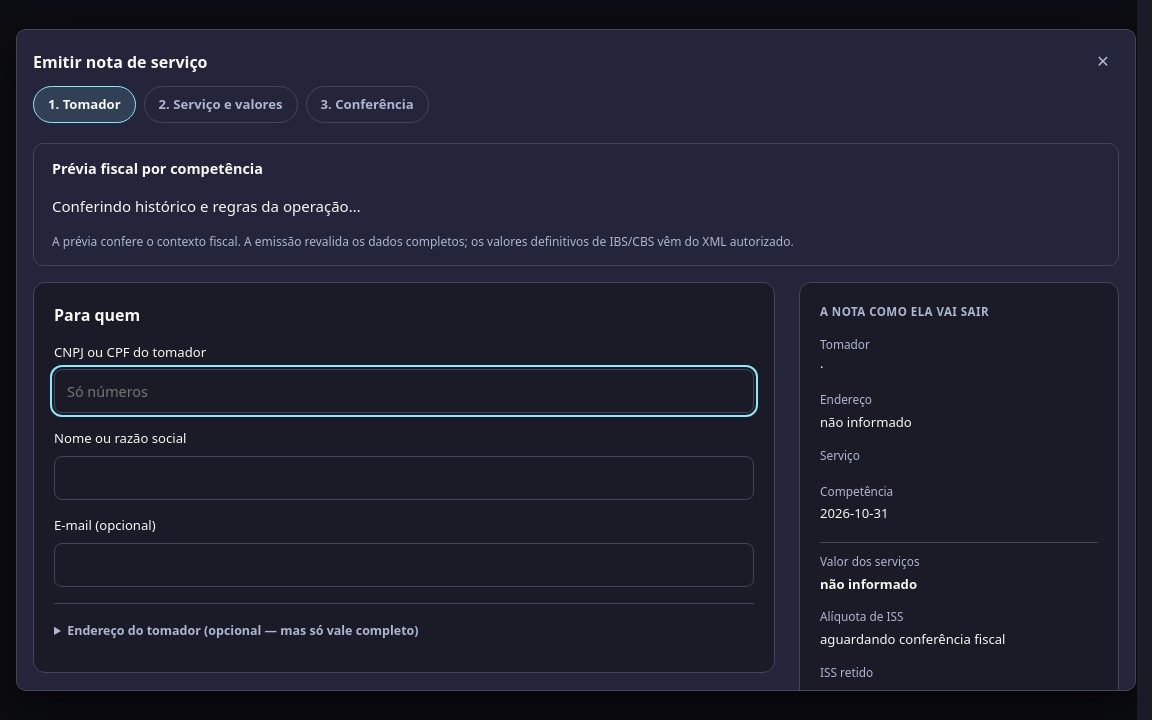
it: CEP preenche endereço parcial sem inventar número e preserva edição em andamento
Step 1. Click the heading "Endereço do tomador (opcional — mas só vale completo)" → (243,630), box [67,622,418,639]
(page scrolled)
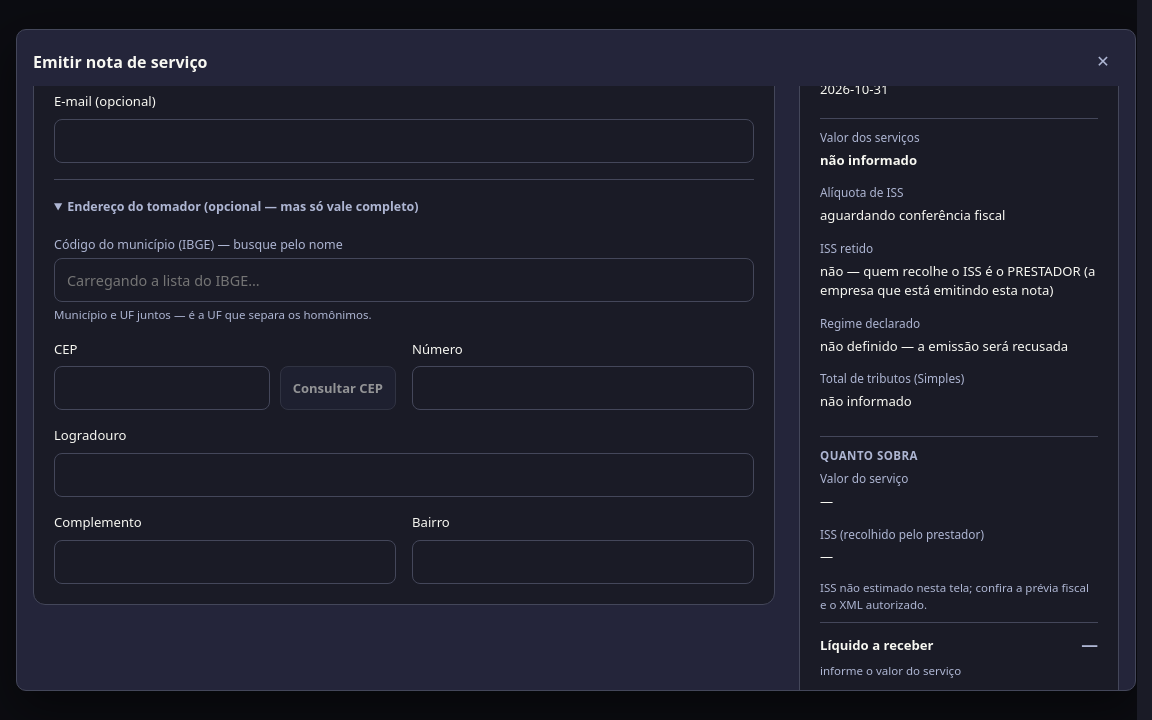
Step 2. Type "22770-010" into the field with id "nfse-cep" → (162,388), box [54,366,270,410]
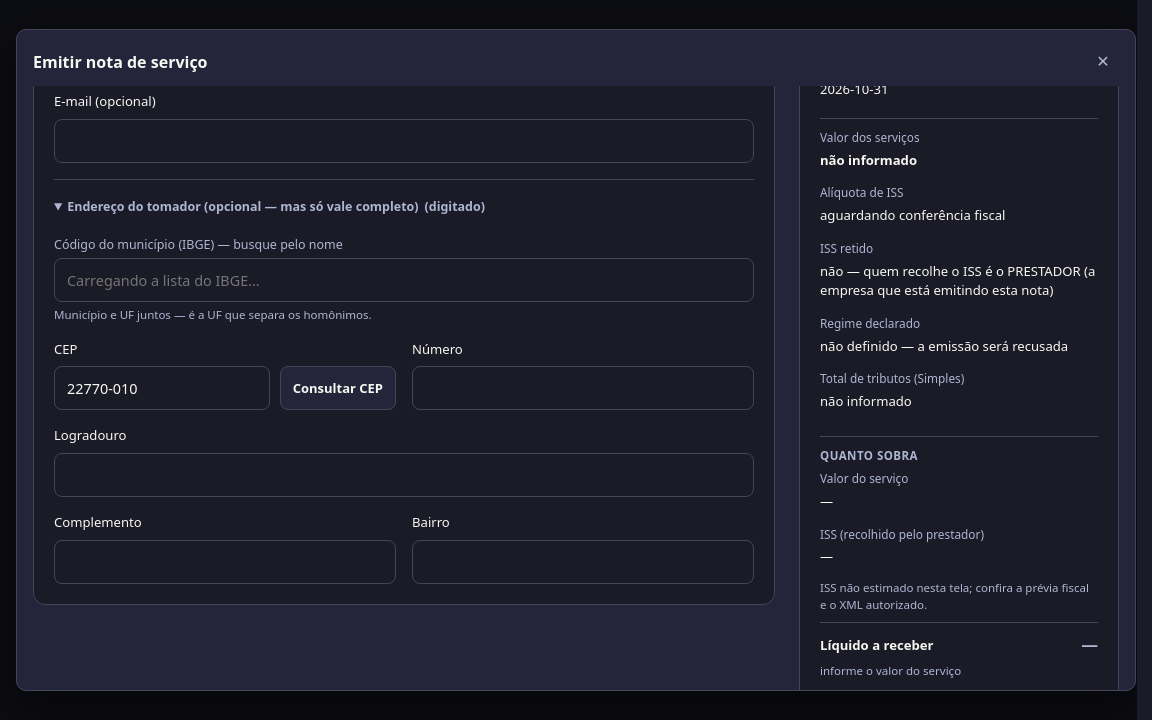
Step 3. Click the button "Consultar CEP" → (338,388), box [280,366,396,410]
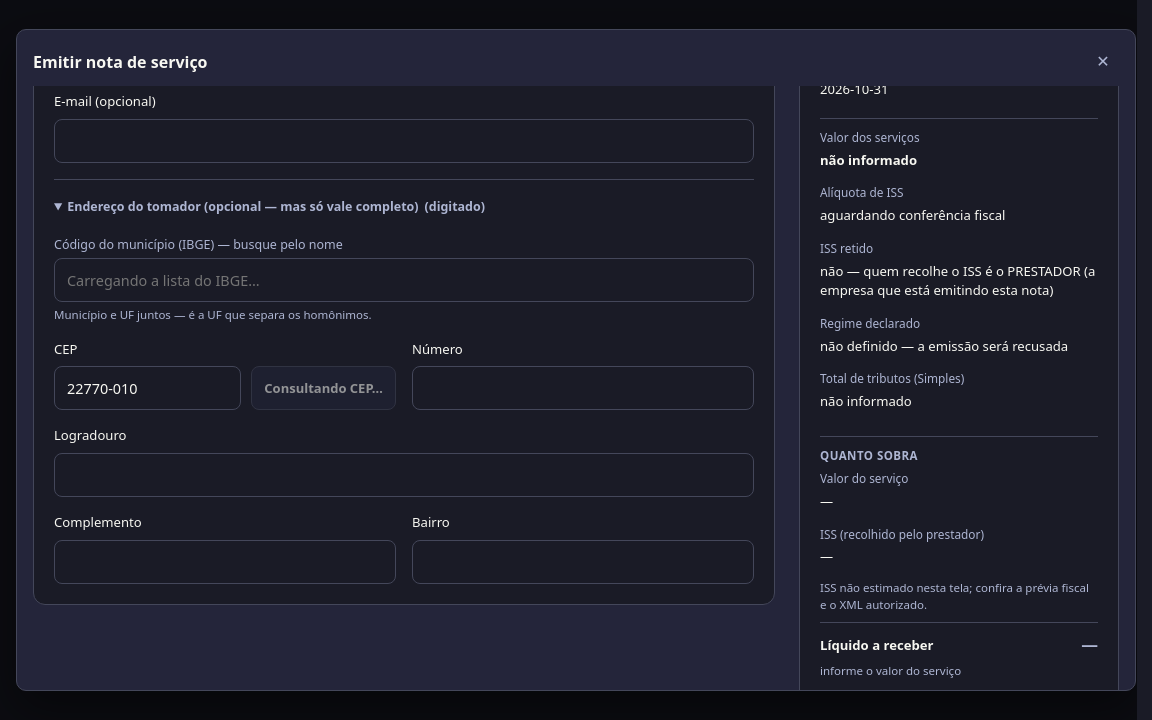
Step 4. Type "Rua informada manualmente" into the field with id "nfse-xlgr" → (404,475), box [54,453,754,497]
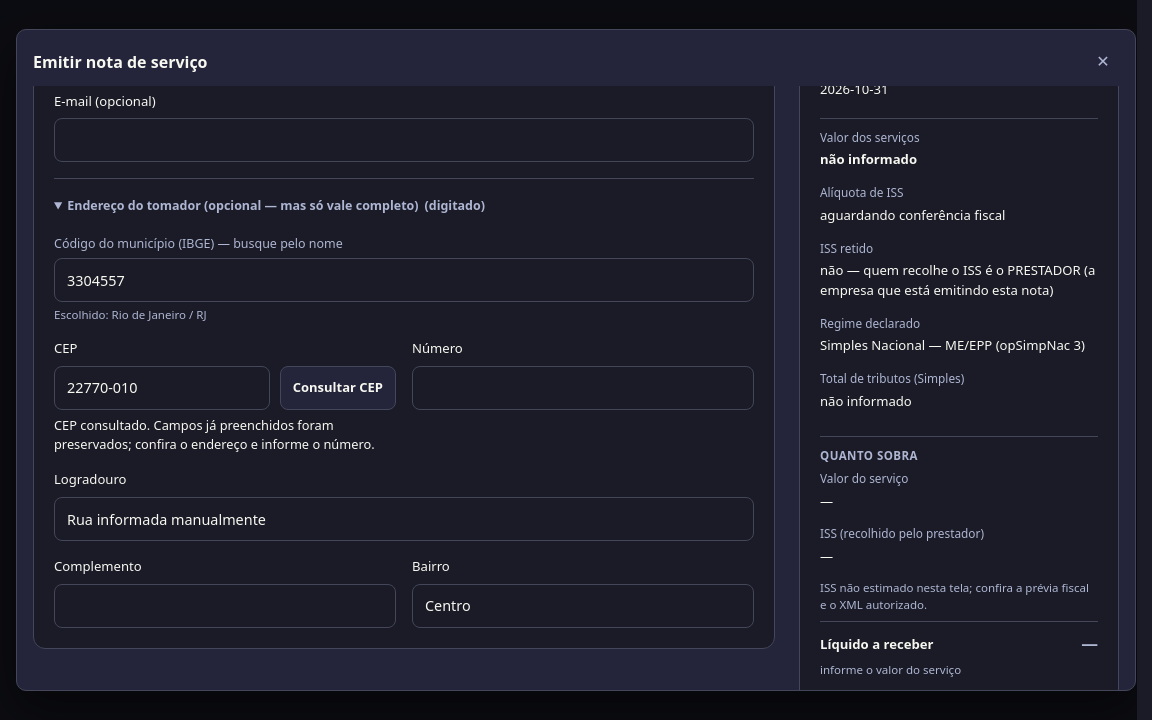
Expected: the field with id "nfse-nro" is empty, [412,366,754,410]
Expected: the field with id "nfse-xbairro" holds "Centro", [412,584,754,628]
